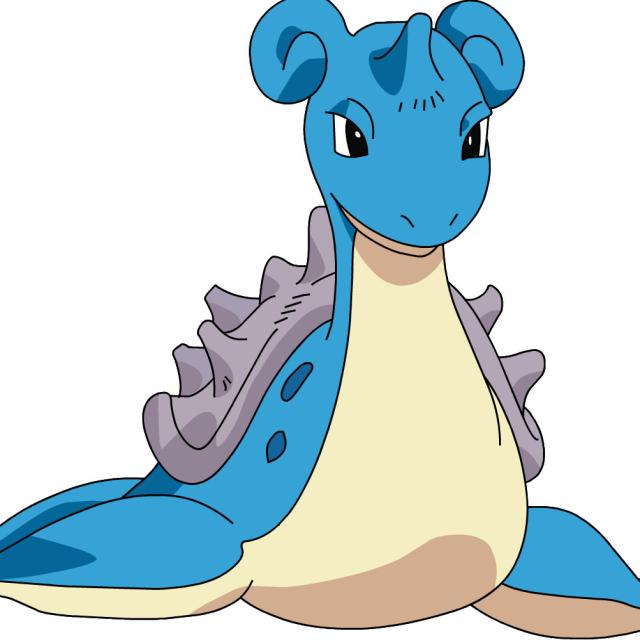Lapras: (123, 1, 544, 626)
